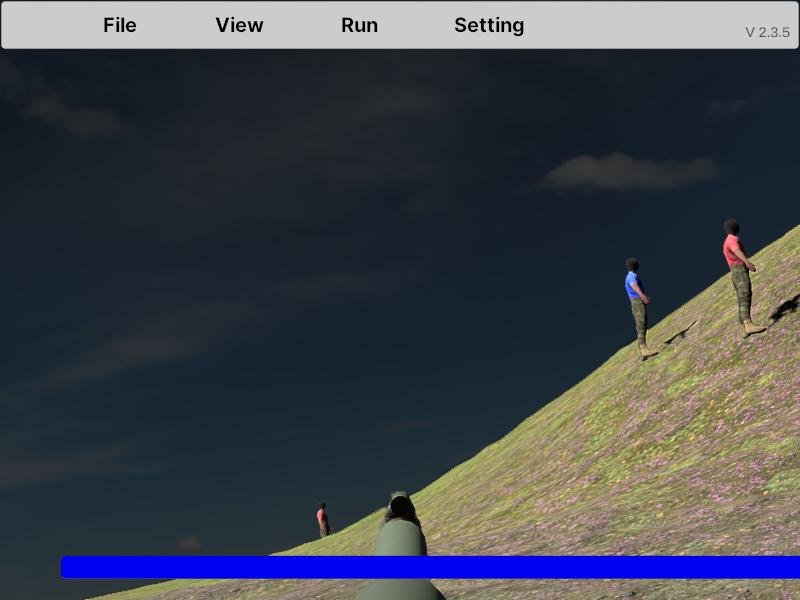Human: (722, 219, 767, 338), (624, 257, 658, 361)
